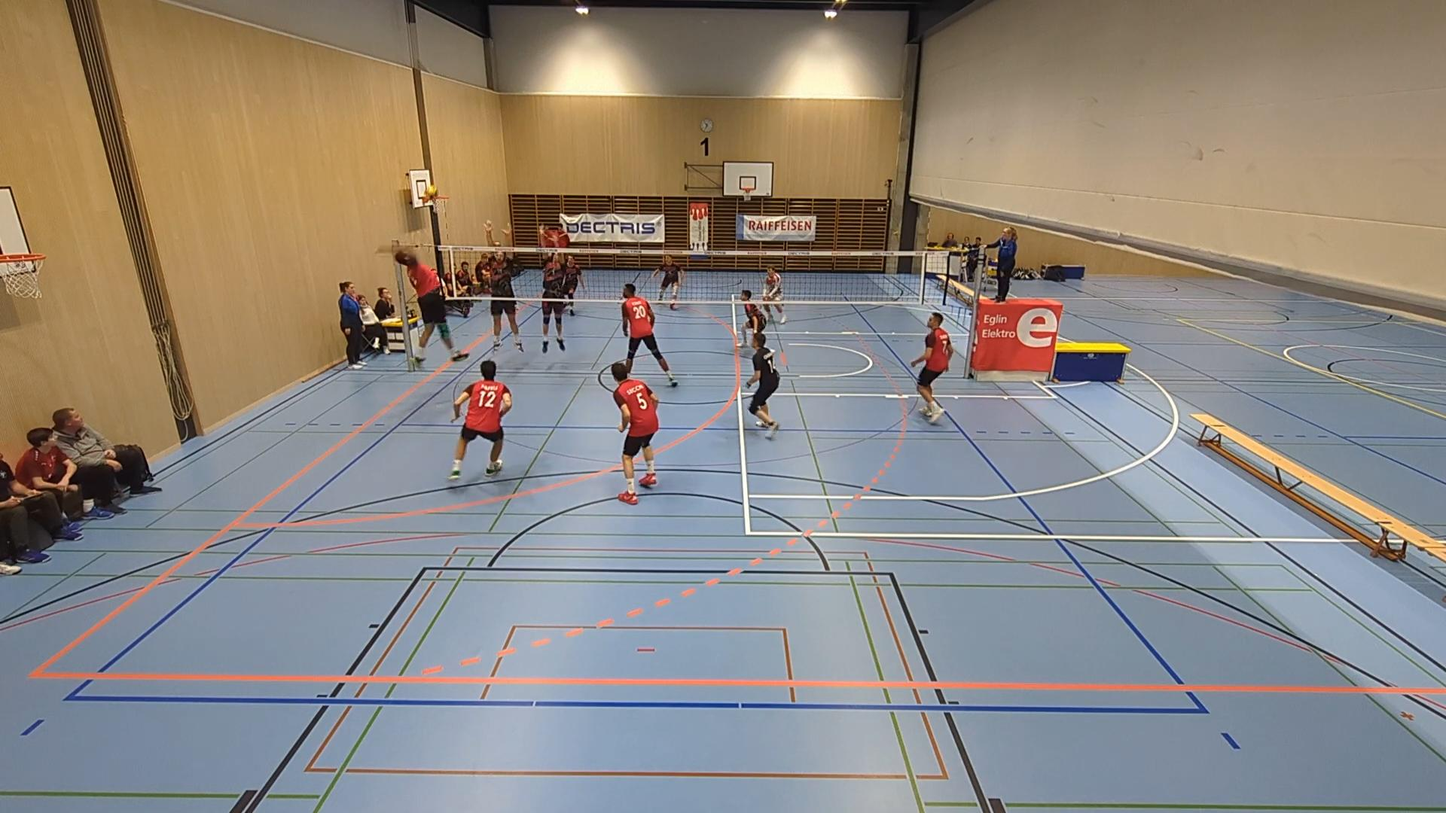attacco: (383, 244, 465, 369)
muro: (477, 215, 522, 357), (537, 217, 575, 356)
